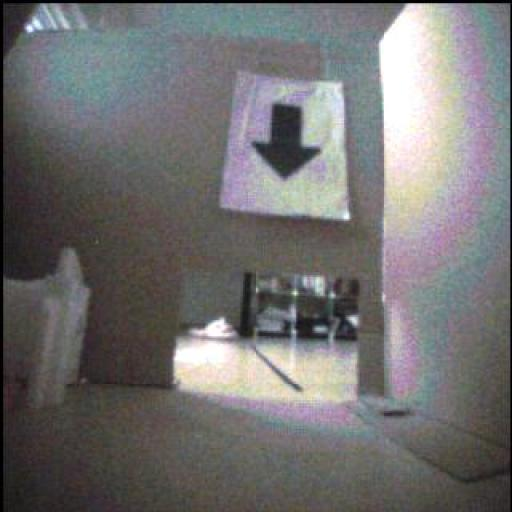arrow: (254, 105, 321, 180)
